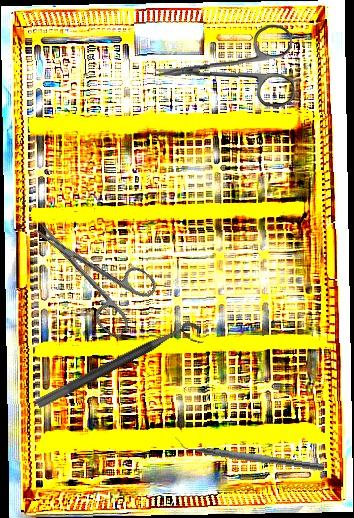Chopper: (173, 434, 326, 472)
Fixation Ring: (34, 317, 207, 423)
Iris Scissors: (16, 198, 164, 341), (153, 23, 295, 112)
